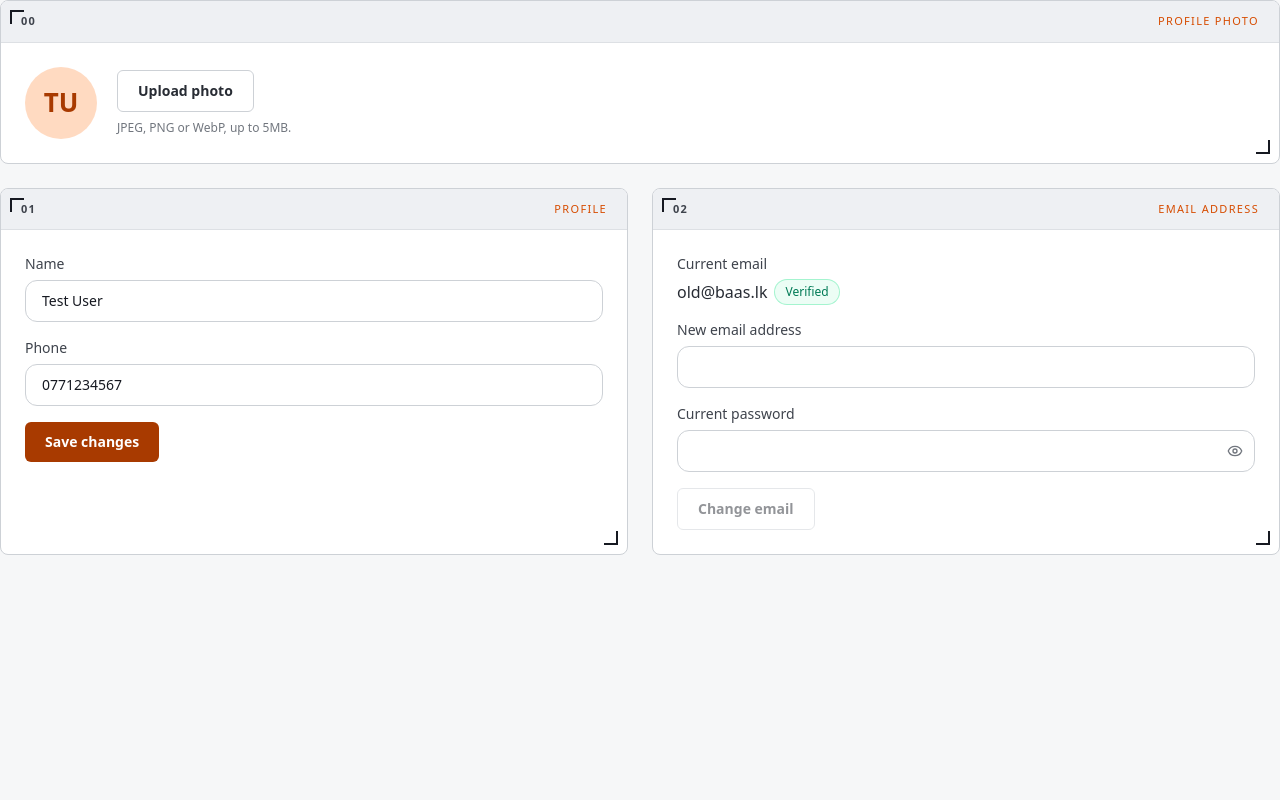
AccountDetails — change email › shows the server error via role=alert on a rejected change
Type "new@baas.lk" into the field labelled "New email address" at (966, 367), box 677,346 -> 1255,388
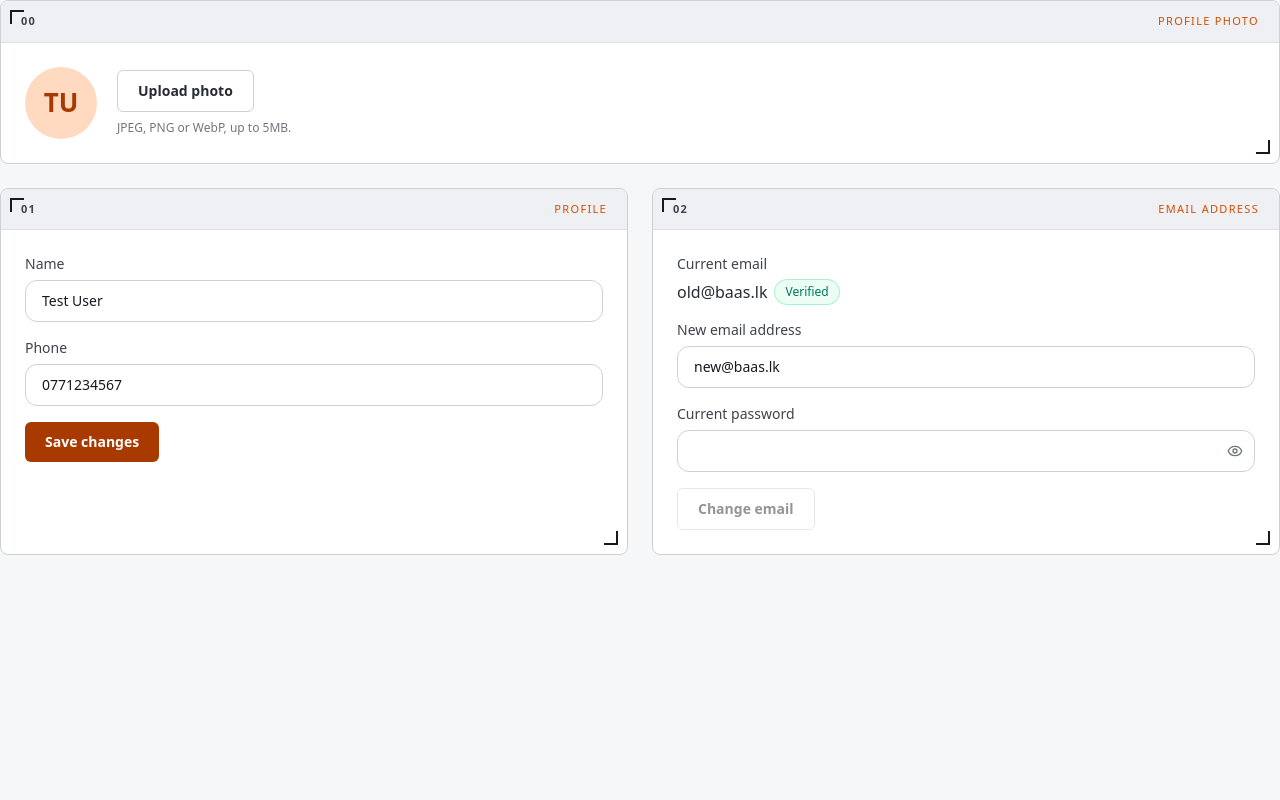
Type "wrong" into the password field labelled "Current password" at (966, 451), box 677,430 -> 1255,472
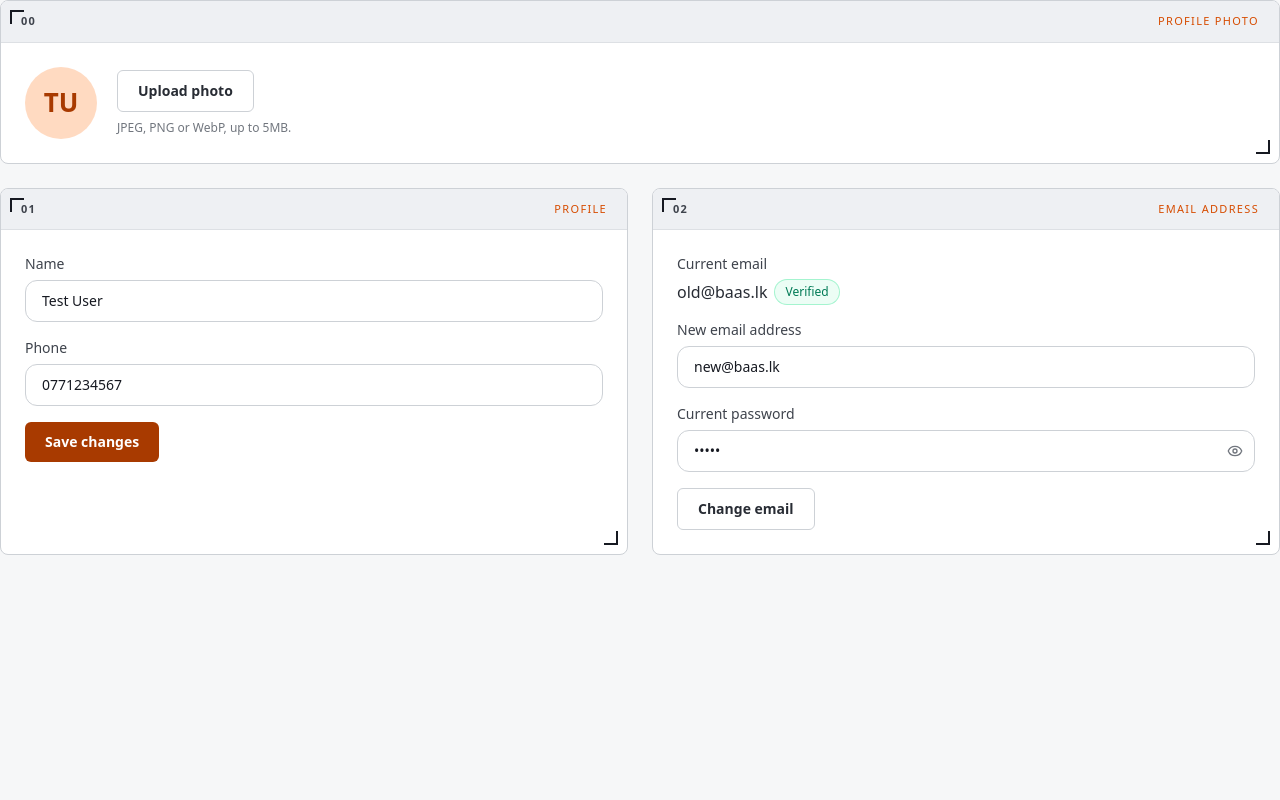
Submit the form named "Change email", box 652,188 -> 1279,555
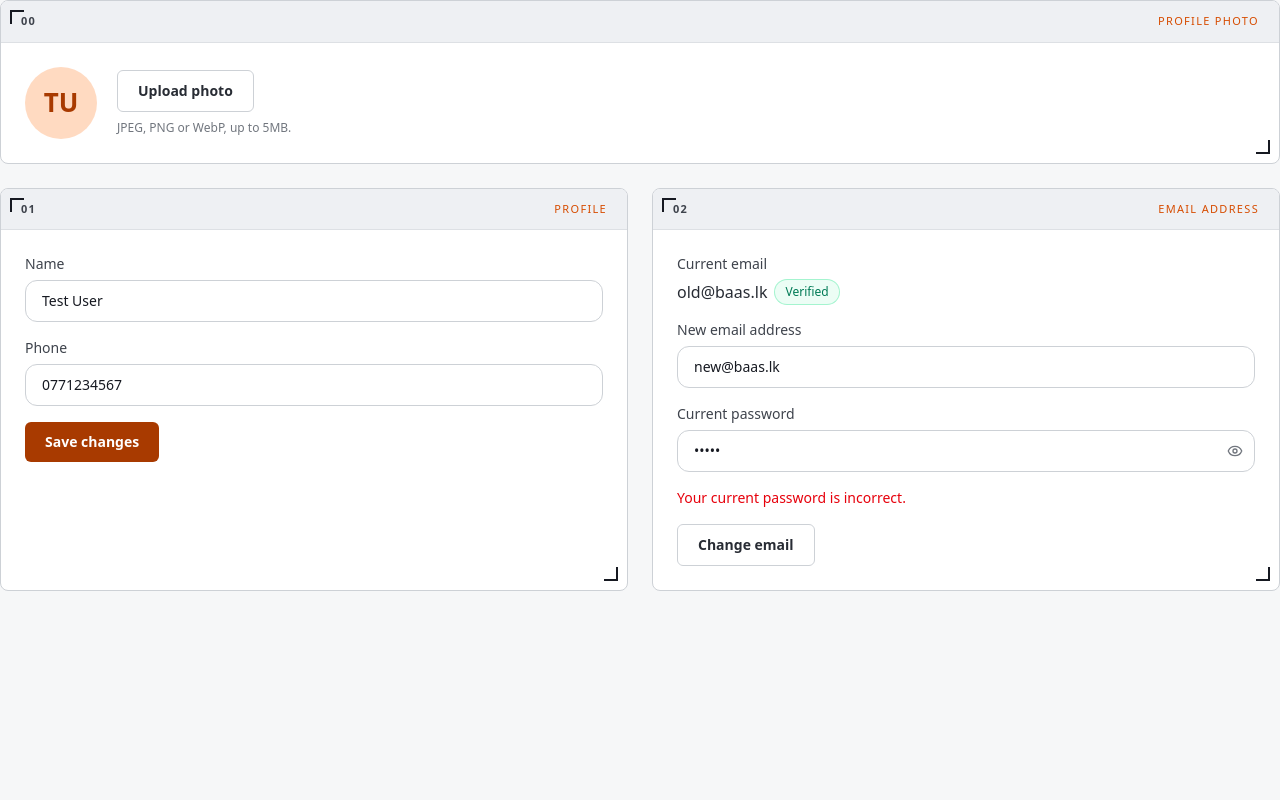
Expected: the message reads "Your current password is incorrect.", 677,488 -> 906,507
